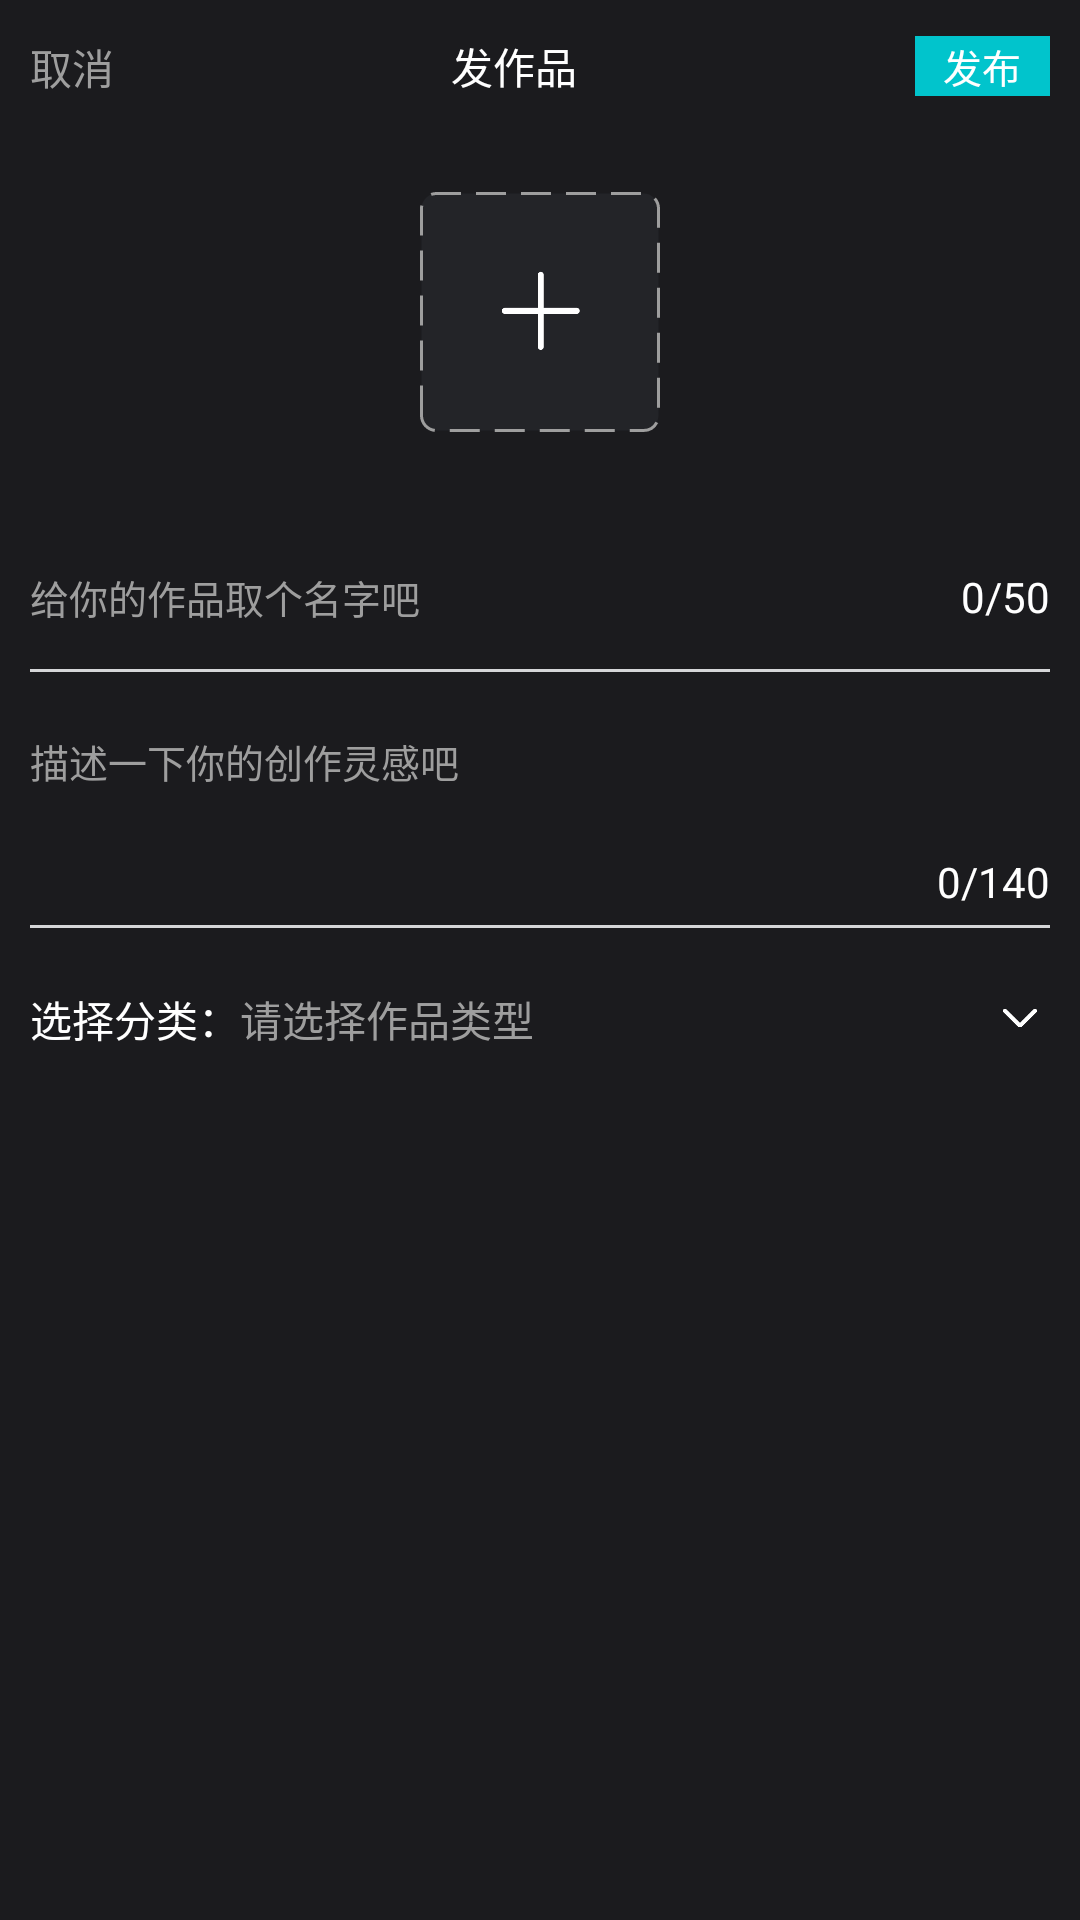

Icons on this 1080 x 1920 Android screen, each with its box as bbox(x1, y1, x2, y2):
add picture: bbox(502, 272, 580, 350)
